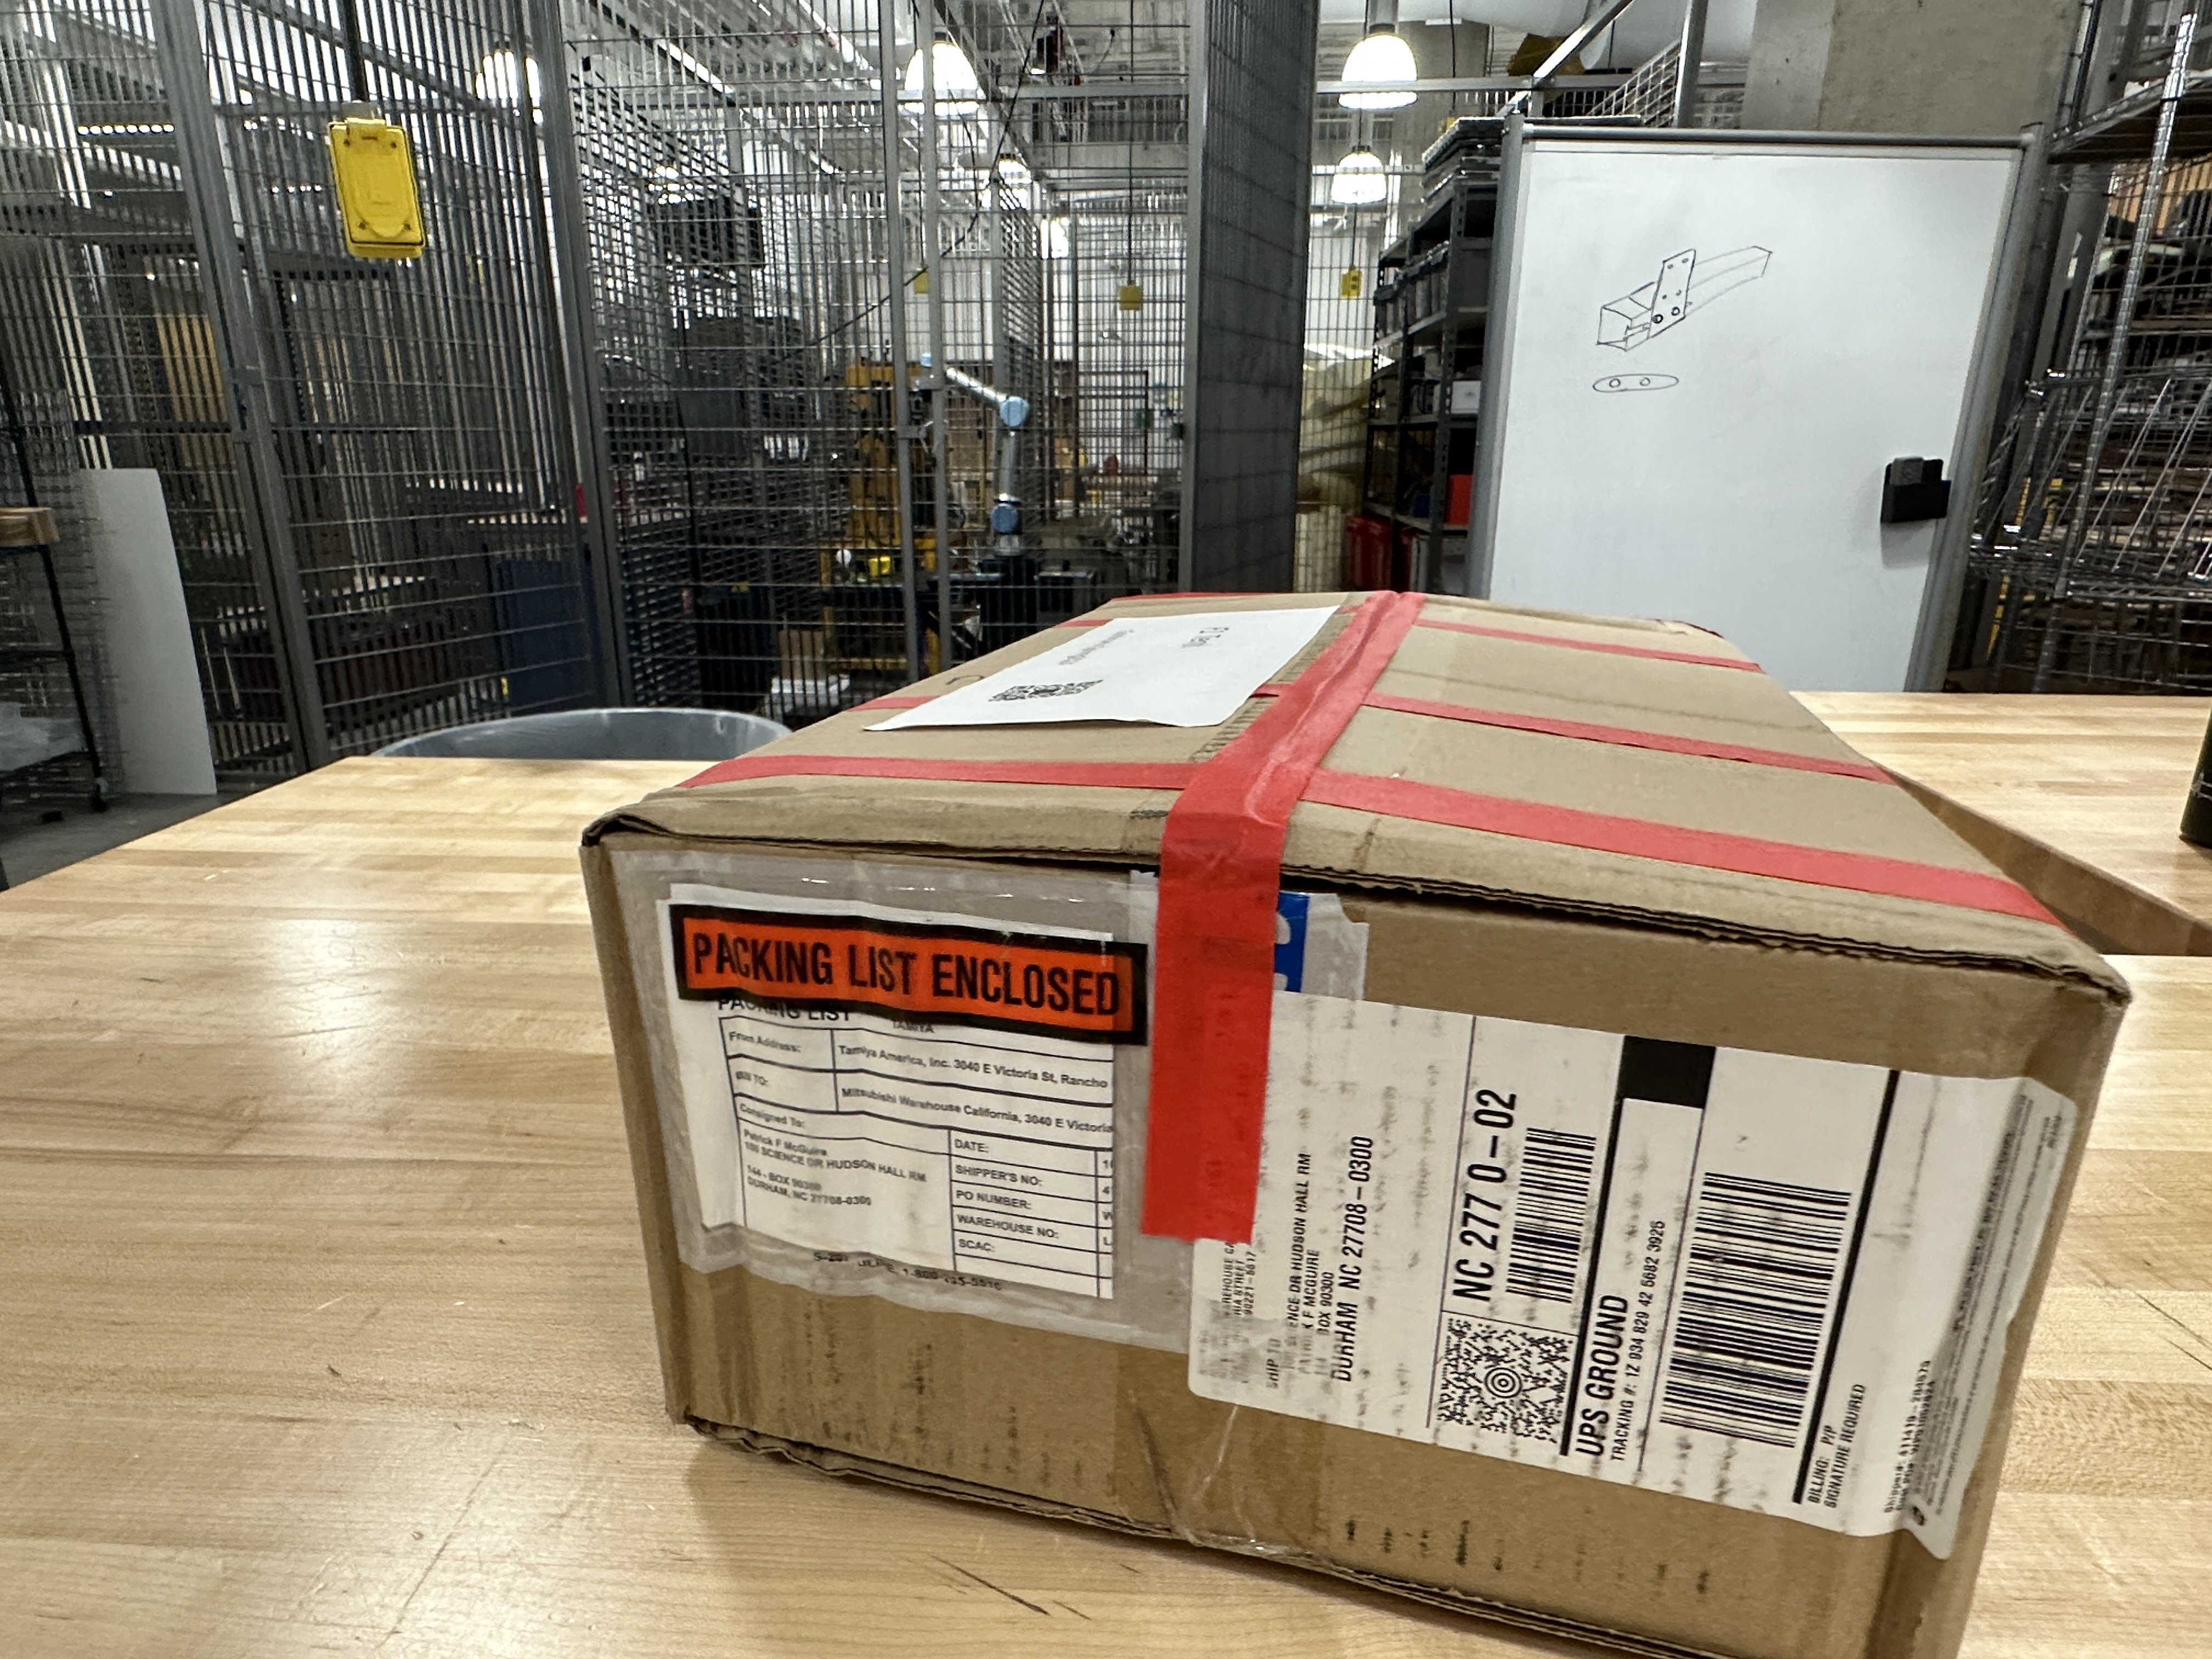Box_Obstacle: (564, 575, 2148, 1657)
